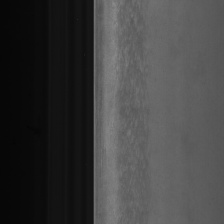silk_spot: (115, 9, 154, 206)
